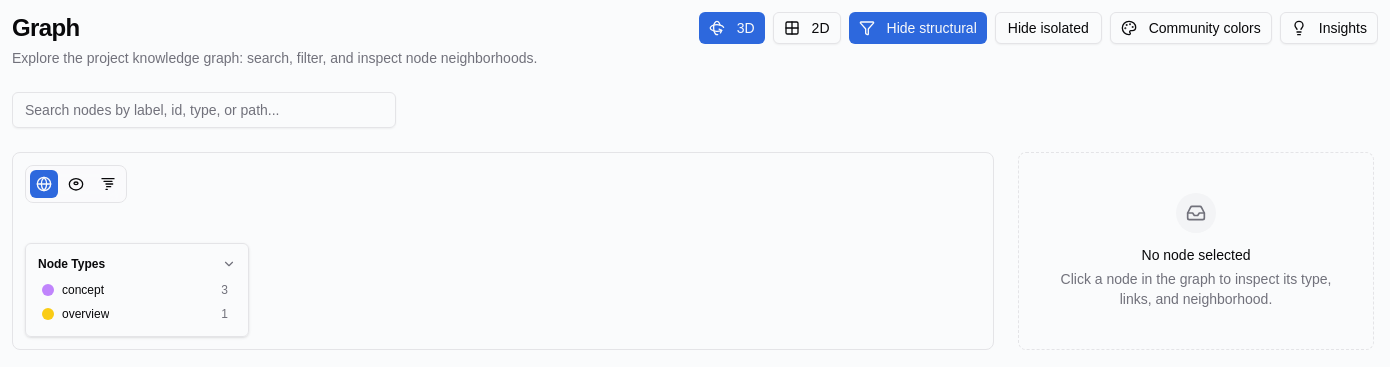
Test: GraphPage › switches between the 3D and 2D views
The width and height of the screenshot is (1390, 367).
Expected: the element with test id "starfield-canvas" is shown, [13,153,993,349]
Step 1. Click the button "2D" → (807, 28), box [773,12,840,44]
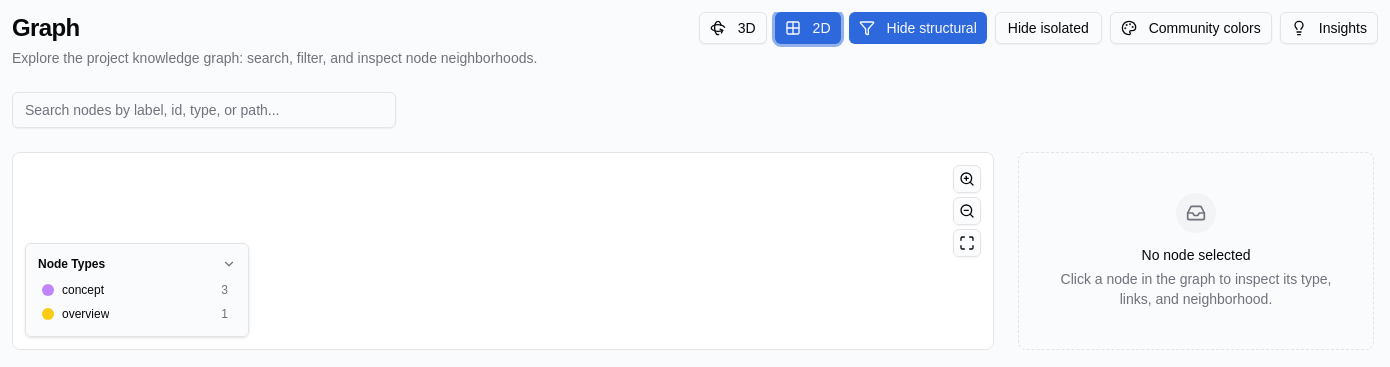
Expected: the element with test id "graph-canvas" is shown, [13,153,993,349]
Expected: the element with test id "starfield-canvas" is gone
Step 2. Click the button "3D" → (733, 28), box [699,12,767,44]
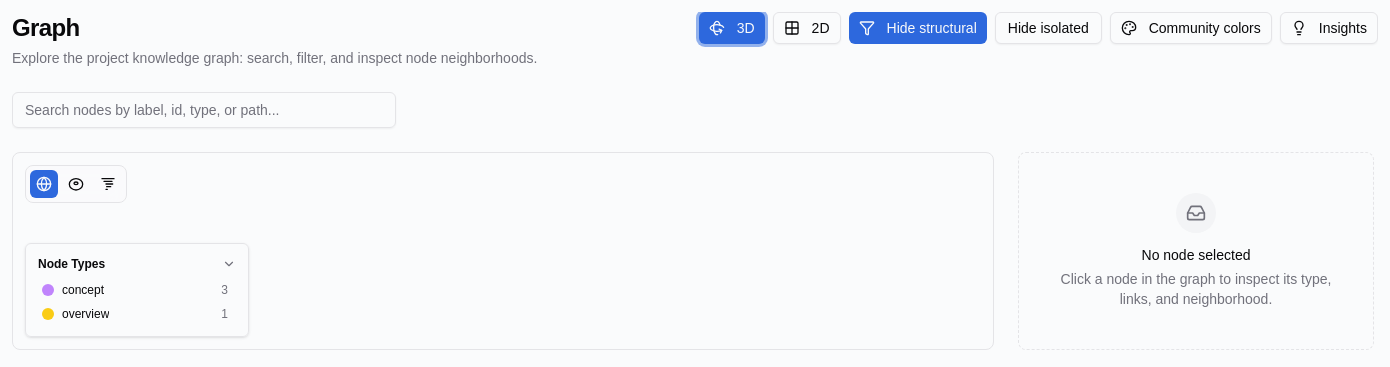
Expected: the element with test id "starfield-canvas" is shown, [13,153,993,349]
